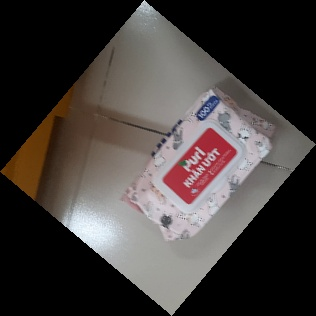Puri hong: (115, 86, 276, 243)
